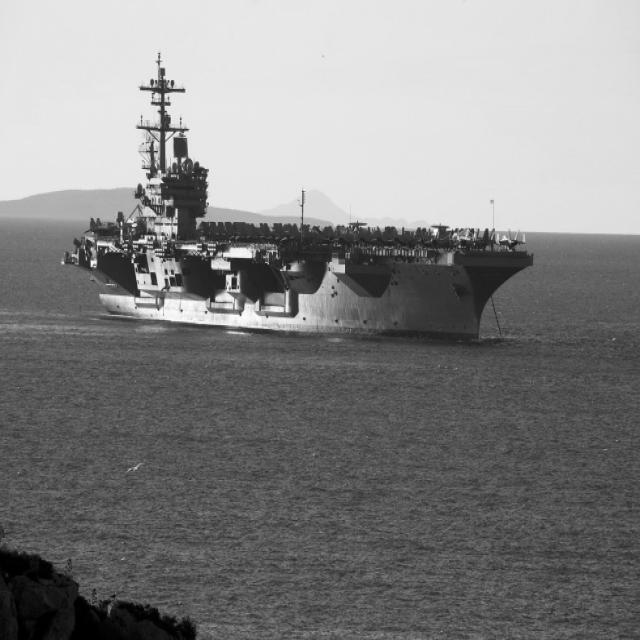Portanaves: (57, 54, 540, 342)
